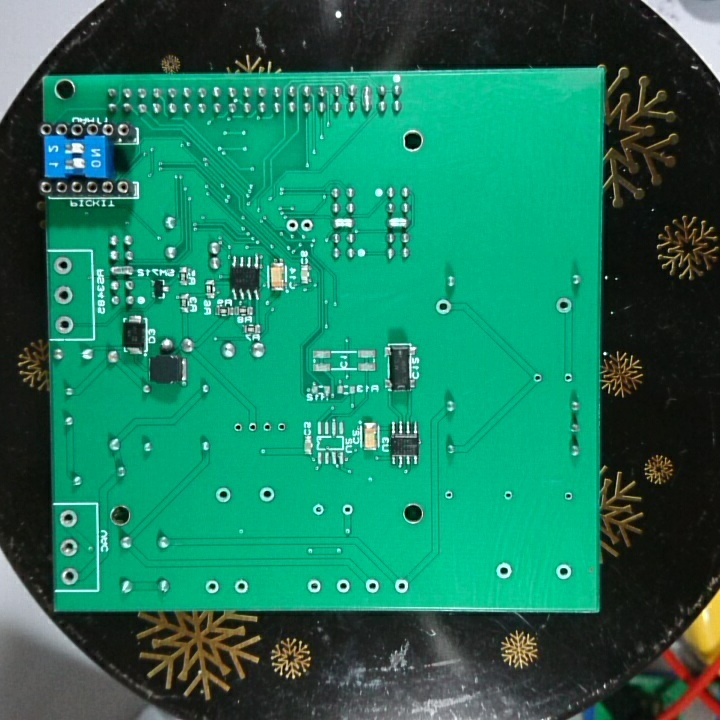F: (552, 292, 576, 320), (53, 252, 76, 278), (52, 283, 76, 307), (59, 506, 81, 532), (432, 295, 454, 320), (551, 560, 573, 585), (57, 535, 79, 560), (53, 315, 79, 336), (361, 575, 384, 598), (59, 565, 81, 589), (493, 559, 516, 581), (212, 484, 233, 506), (304, 575, 324, 597), (257, 485, 279, 505), (201, 575, 221, 597), (333, 577, 356, 596), (390, 577, 413, 595), (231, 575, 250, 596), (310, 500, 328, 520), (300, 215, 316, 235), (561, 366, 576, 386), (284, 216, 299, 235), (500, 487, 516, 504), (340, 502, 356, 518), (561, 489, 576, 506), (261, 418, 274, 437), (530, 370, 544, 387), (230, 421, 244, 438), (246, 420, 259, 438), (442, 486, 456, 501), (275, 418, 284, 440)
P: (106, 263, 136, 282), (330, 214, 356, 232), (359, 83, 373, 116), (384, 214, 411, 231)
